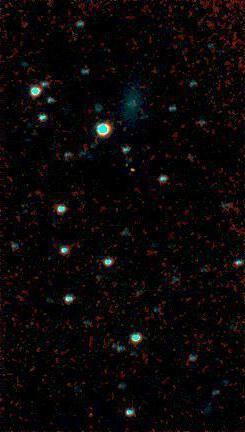star: (122, 153, 152, 183)
